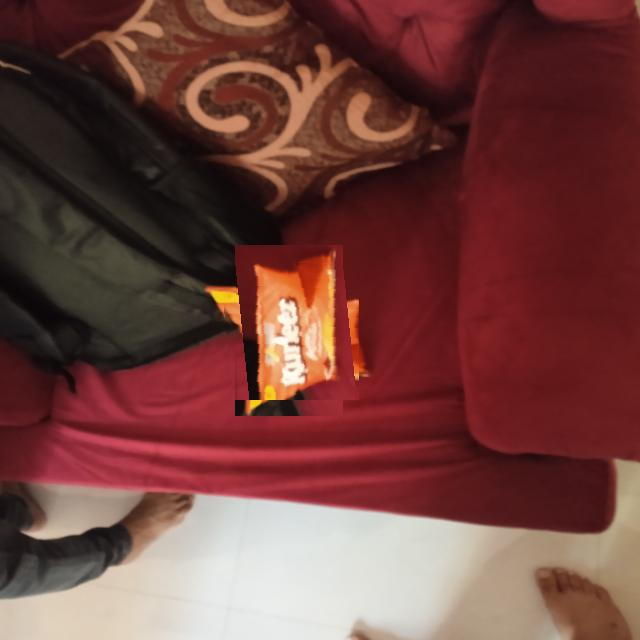Plastic: (219, 260, 359, 400)
